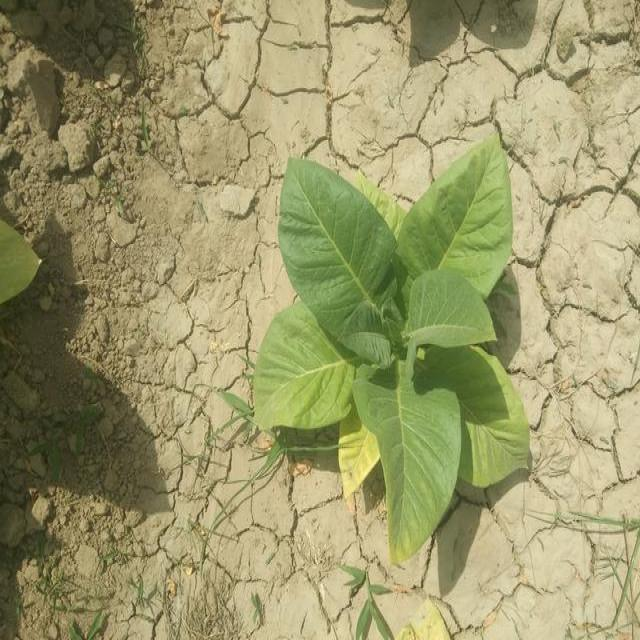crop: (252, 136, 528, 564), (1, 200, 42, 320)
